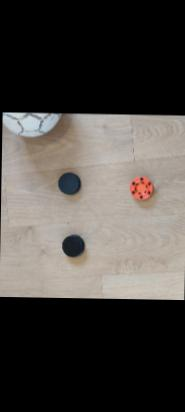hockey puck: (124, 174, 153, 203), (59, 232, 85, 258), (54, 171, 81, 196)
